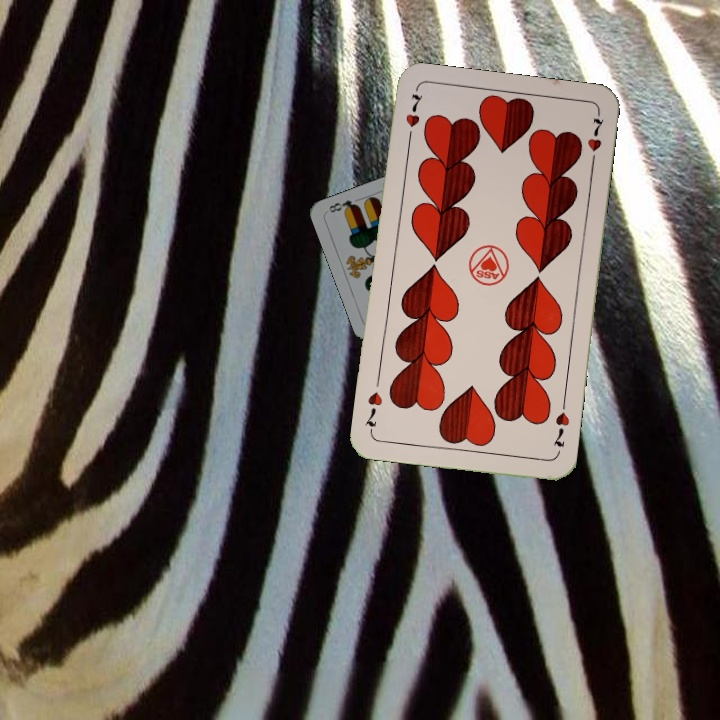H7: (401, 87, 425, 146), (549, 397, 572, 450)
